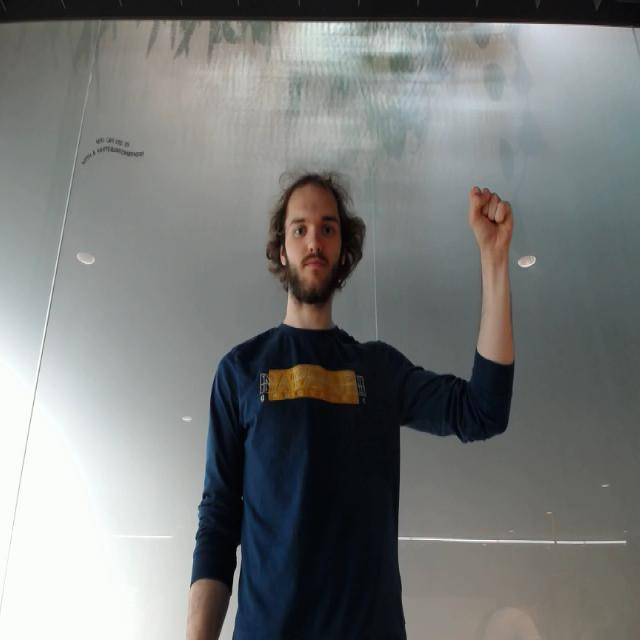stop: (466, 182, 520, 247)
